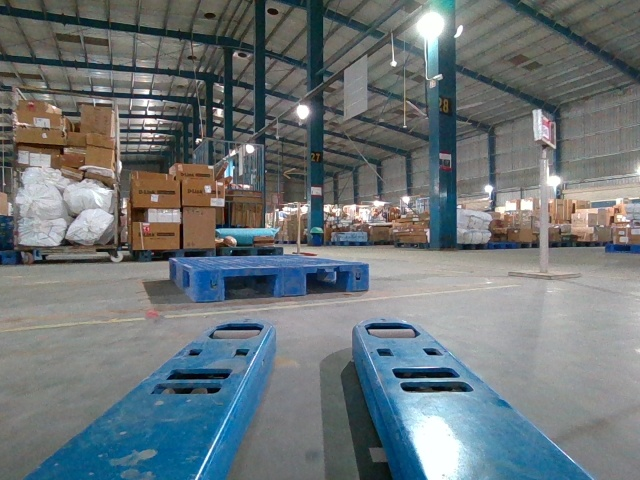block: (193, 269, 225, 306), (277, 263, 308, 297), (349, 262, 369, 289)
front: (197, 263, 370, 303)
hole pallet: (222, 270, 280, 299), (302, 268, 351, 296)
